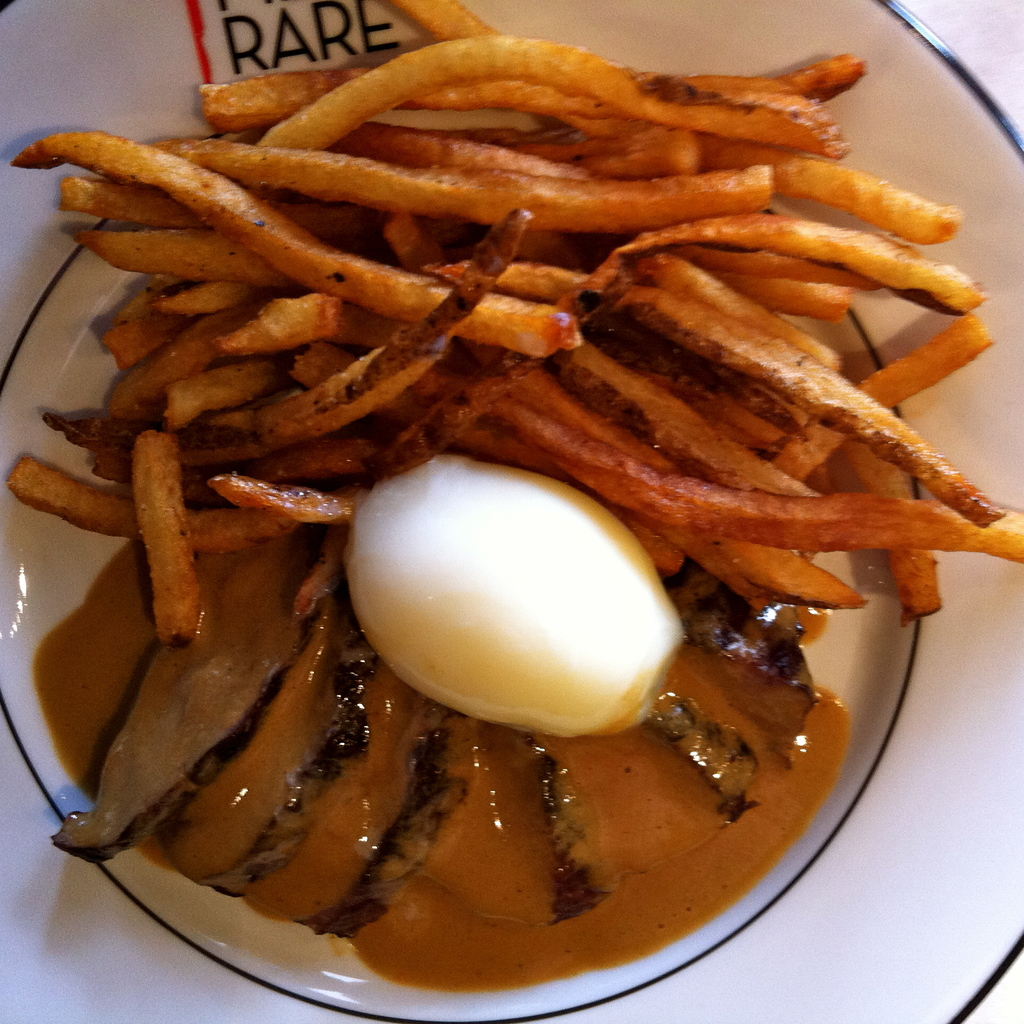French fries: (0, 0, 1023, 642)
